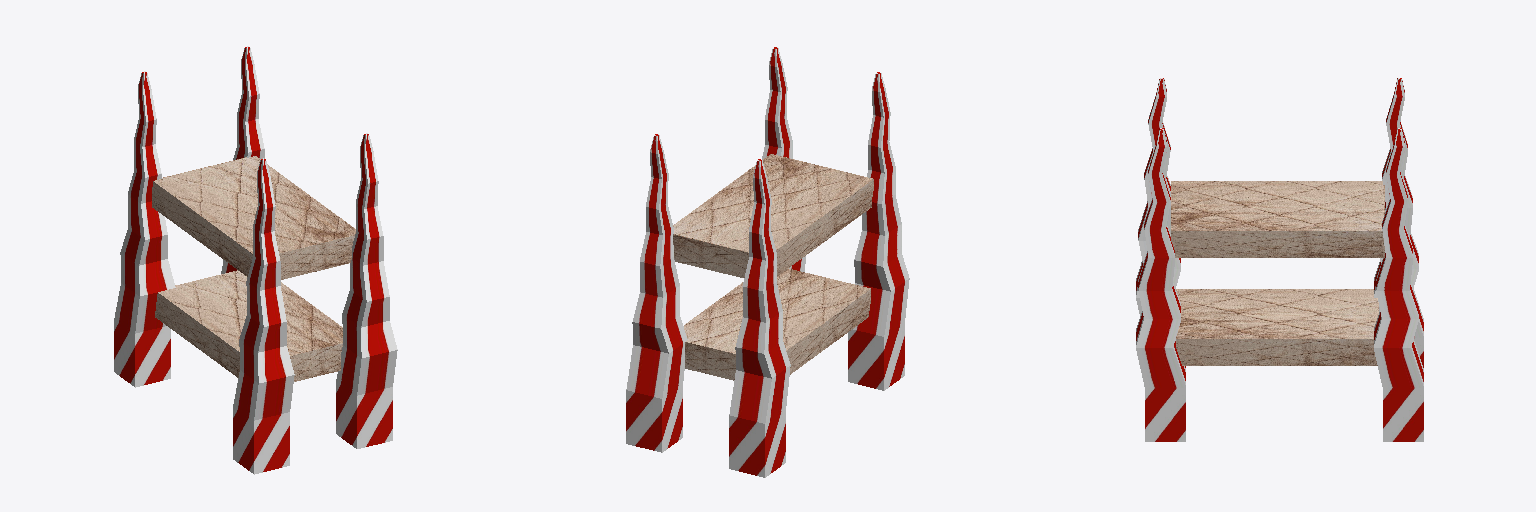
The picture shows the model from 3 angles: view 1: azimuth 30°, elevation 25°; view 2: azimuth 150°, elevation 25°; view 3: azimuth 270°, elevation 25°; orthographic projection.
Parts seen in each view (by area): view 1: pCube6, pCube1, pCube3, pCube2, pCube5, pCube4; view 2: pCube6, pCube2, pCube4, pCube1, pCube5, pCube3; view 3: pCube6, pCube5, pCube4, pCube3, pCube2, pCube1.
Part boxes in pixels (left/top/right/bottom): pCube6: left=152, top=156, right=355, bottom=279; pCube1: left=233, top=158, right=294, bottom=474; pCube3: left=336, top=133, right=397, bottom=448; pCube2: left=114, top=71, right=175, bottom=387; pCube5: left=155, top=270, right=342, bottom=381; pCube4: left=221, top=46, right=264, bottom=273; pCube6: left=673, top=154, right=873, bottom=277; pCube2: left=729, top=159, right=790, bottom=477; pCube4: left=626, top=134, right=687, bottom=452; pCube1: left=848, top=72, right=909, bottom=390; pCube5: left=684, top=268, right=870, bottom=380; pCube3: left=762, top=47, right=805, bottom=271; pCube6: left=1171, top=181, right=1384, bottom=257; pCube5: left=1176, top=289, right=1378, bottom=365; pCube4: left=1374, top=128, right=1423, bottom=441; pCube3: left=1136, top=128, right=1185, bottom=441; pCube2: left=1374, top=78, right=1423, bottom=367; pCube1: left=1136, top=78, right=1185, bottom=367.
Bounding box in the file's own units: 270 × 565 × 485.
3 materials, 2 textured.